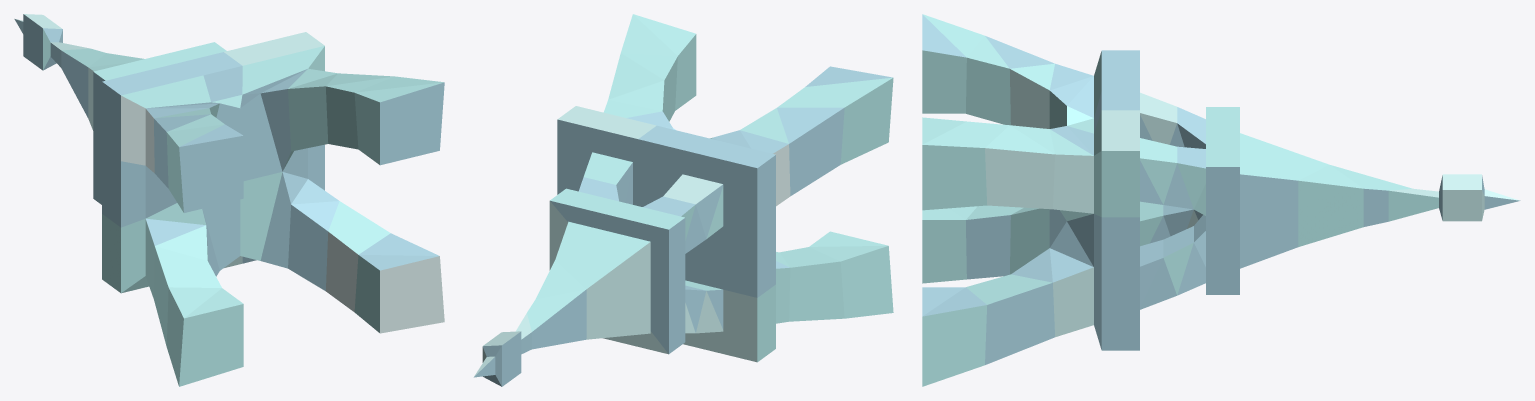
File: eiffel_winter.fbx
3 renders of one model, left to right at view 1: azimuth 30°, elevation 25°; view 2: azimuth 150°, elevation 25°; view 3: azimuth 270°, elevation 25°, orthographic. The views are drawn at different scales.
Parts seen in each view (by area): view 1: eiffel_winter; view 2: eiffel_winter; view 3: eiffel_winter.
Part boxes in pixels (box(x1,y1,x2,y2)): eiffel_winter: box(14, 14, 444, 386); eiffel_winter: box(473, 14, 893, 386); eiffel_winter: box(922, 14, 1520, 386).
Bounding box in the file's own units: 234 × 202 × 453.
